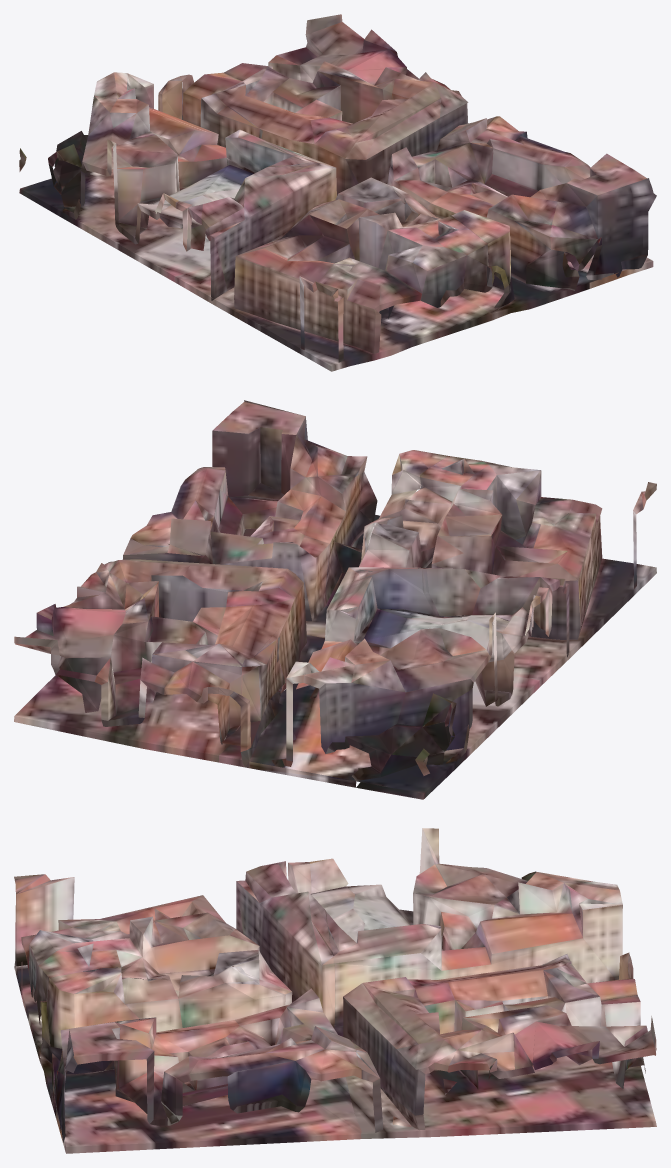
3 renders of one model, top to bottom at view 1: azimuth 30°, elevation 25°; view 2: azimuth 150°, elevation 25°; view 3: azimuth 270°, elevation 25°, orthographic. The views are drawn at different scales.
Parts seen in each view (by area): view 1: Mesh_0; view 2: Mesh_0; view 3: Mesh_0.
Boxes of the visible parts, left/top/right/bottom form: Mesh_0: left=19, top=14, right=656, bottom=371; Mesh_0: left=14, top=400, right=656, bottom=799; Mesh_0: left=14, top=828, right=656, bottom=1153.
Size of the model in its own units: 136 by 34.71 by 165.
Materials: 1 (1 with a texture image).
